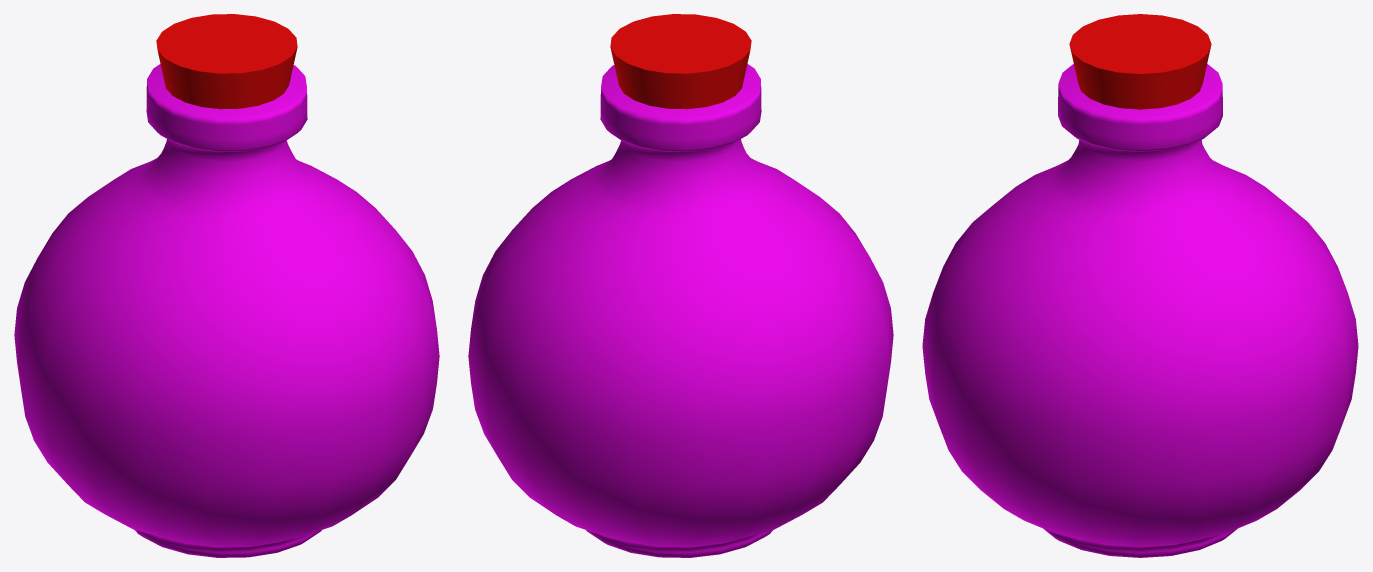
The model's file is PotionBottle.fbx.
3 views of the same model, side by side, from view 1: azimuth 30°, elevation 25°; view 2: azimuth 150°, elevation 25°; view 3: azimuth 270°, elevation 25° (orthographic).
Parts seen in each view (by area): view 1: Glass, Cork; view 2: Glass, Cork; view 3: Glass, Cork.
Part boxes in pixels (x1,y1,x2,y2): Glass: [14, 64, 439, 557]; Cork: [156, 14, 297, 109]; Glass: [468, 64, 893, 557]; Cork: [610, 14, 751, 109]; Glass: [922, 64, 1358, 557]; Cork: [1069, 14, 1211, 109].
Size of the model in its own units: 5.97 by 7.51 by 6.13.
